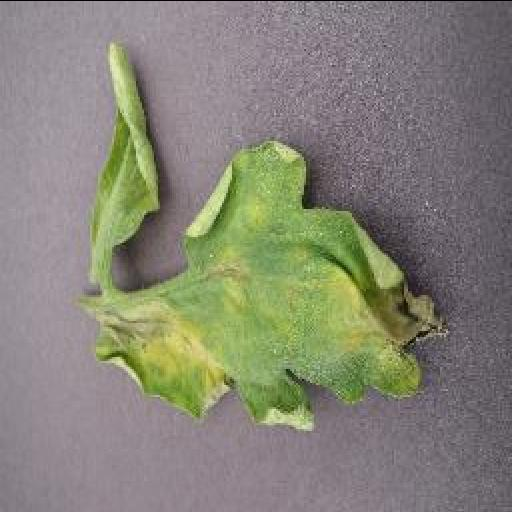disease_tomato: (82, 44, 454, 442)
